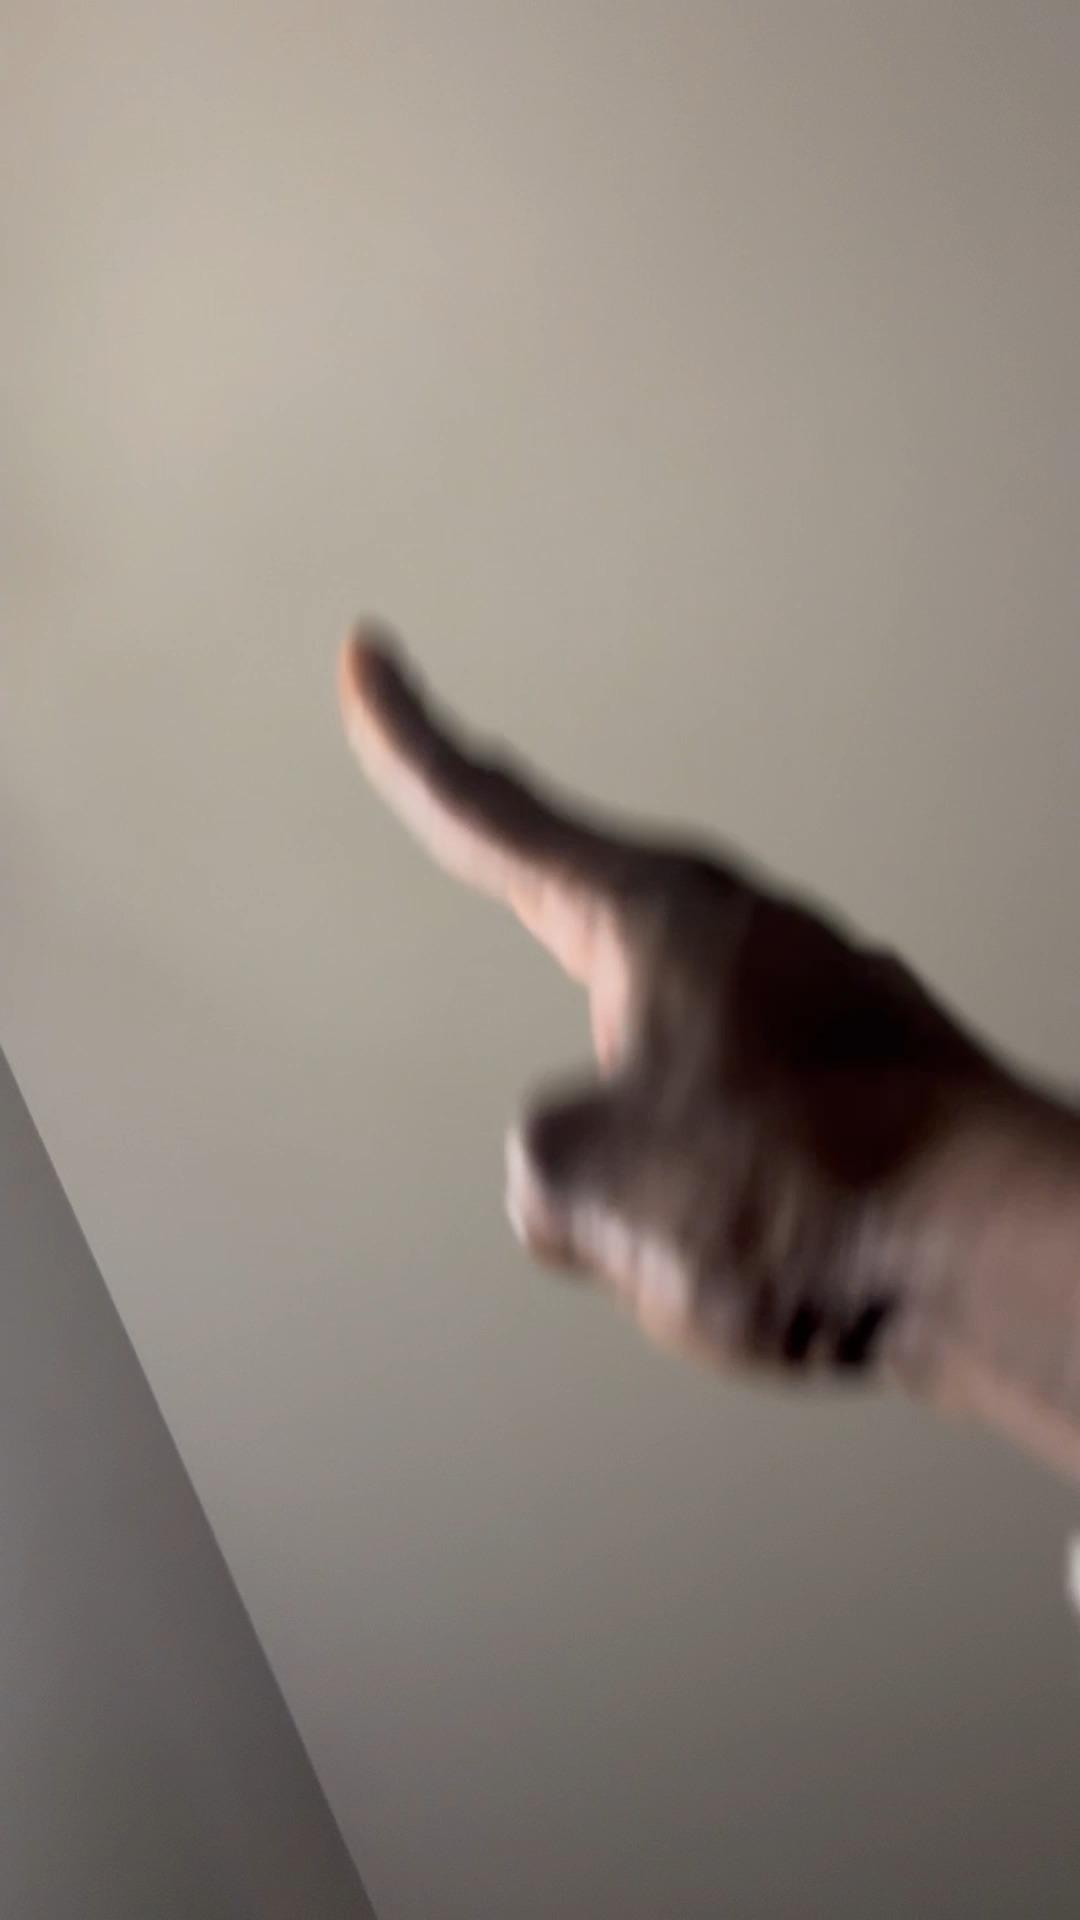Scissors: (330, 617, 969, 1400)
